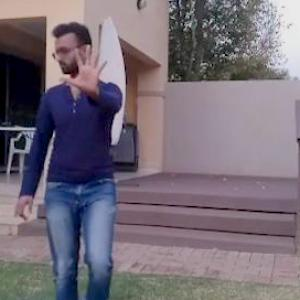follow_hand: (62, 41, 111, 96)
